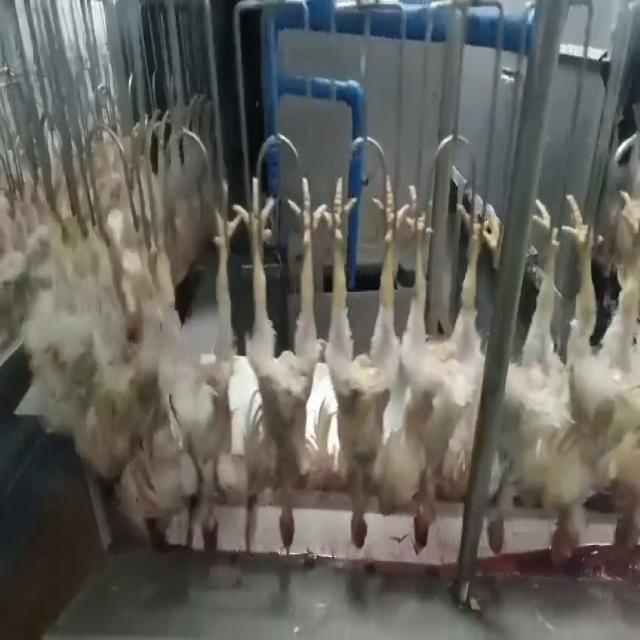chicken: (137, 173, 242, 555), (390, 181, 487, 556), (230, 164, 320, 556), (314, 175, 399, 554), (513, 184, 596, 568), (596, 197, 637, 571)
